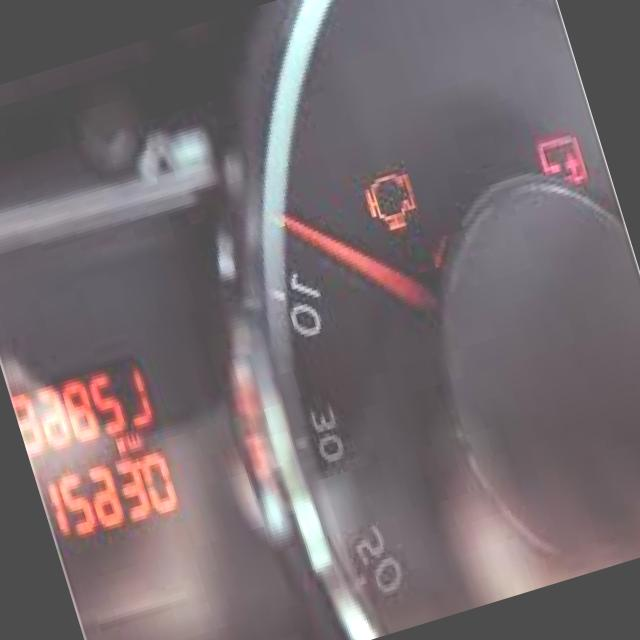kontrolka: (350, 155, 430, 246), (524, 121, 594, 201)
